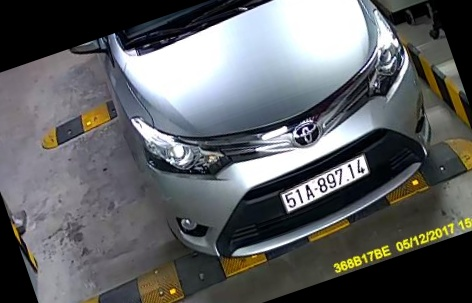plate: (270, 149, 374, 219)
